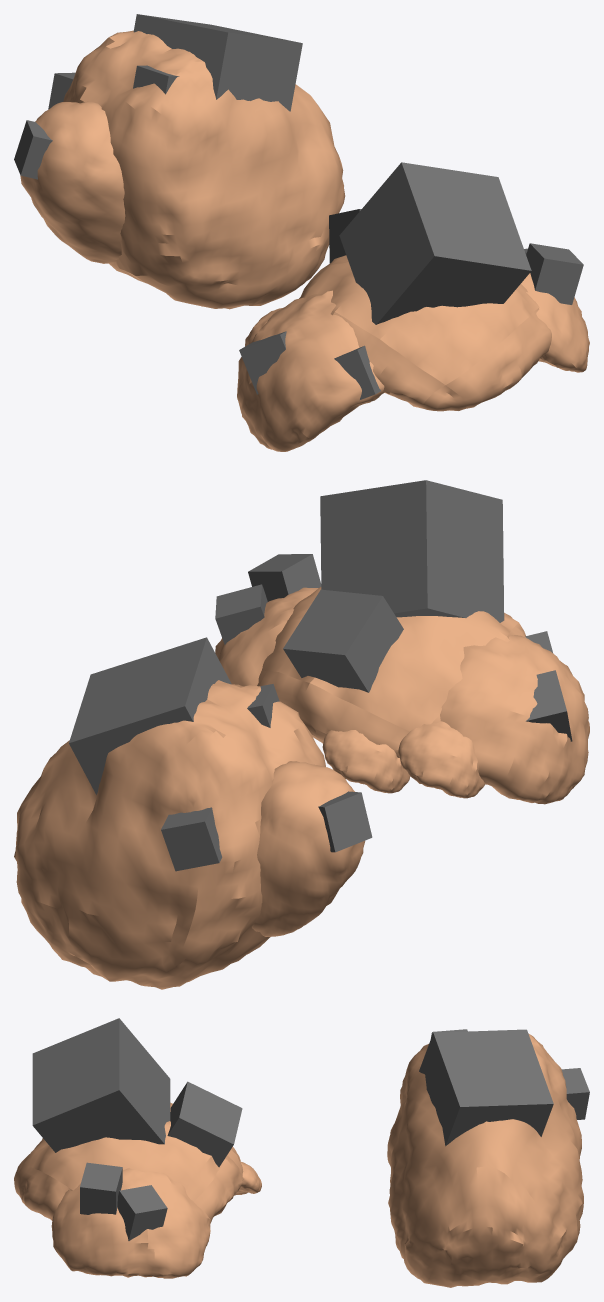
Rendered from CasillasJefe.fbx.
The picture shows the model from 3 angles, top to bottom: view 1: azimuth 30°, elevation 25°; view 2: azimuth 150°, elevation 25°; view 3: azimuth 270°, elevation 25°; orthographic projection. The views are drawn at different scales.
Visible parts, largest first — view 1: rock.008, Cubo, rock.002, rock.003, rock.007, Cubo.003, rock.001, Cubo.001, Cubo.004, Cubo.008, Cubo.009, Cubo.007 (+2 smaller); view 2: rock.008, Cubo, rock.003, rock.002, rock.007, Cubo.003, Cubo.007, rock.004, rock.001, rock.005, Cubo.005, Cubo.001 (+4 smaller); view 3: rock.008, Cubo, Cubo.003, rock.001, rock.002, Cubo.007, Cubo.001, Cubo.002, Cubo.005, rock.005.
Part boxes in pixels (left/top/right/bottom): rock.008: left=63, top=30, right=345, bottom=309; Cubo: left=339, top=162, right=531, bottom=324; rock.002: left=299, top=255, right=551, bottom=411; rock.003: left=237, top=290, right=384, bottom=451; rock.007: left=20, top=101, right=125, bottom=263; Cubo.003: left=133, top=14, right=302, bottom=111; rock.001: left=521, top=273, right=589, bottom=372; Cubo.001: left=526, top=243, right=583, bottom=304; Cubo.004: left=14, top=120, right=52, bottom=179; Cubo.008: left=239, top=331, right=286, bottom=394; Cubo.009: left=334, top=345, right=380, bottom=399; Cubo.007: left=329, top=209, right=361, bottom=263; rock.008: left=14, top=680, right=325, bottom=989; Cubo: left=320, top=480, right=504, bottom=622; rock.003: left=440, top=635, right=589, bottom=804; rock.002: left=257, top=587, right=525, bottom=757; rock.007: left=252, top=761, right=365, bottom=936; Cubo.003: left=69, top=637, right=231, bottom=794; Cubo.007: left=283, top=589, right=403, bottom=692; rock.004: left=398, top=721, right=485, bottom=798; rock.001: left=215, top=587, right=318, bottom=686; rock.005: left=322, top=730, right=409, bottom=793; Cubo.005: left=161, top=807, right=222, bottom=871; Cubo.001: left=248, top=554, right=321, bottom=601; rock.008: left=387, top=1033, right=583, bottom=1287; Cubo: left=32, top=1018, right=170, bottom=1152; Cubo.003: left=419, top=1029, right=553, bottom=1146; rock.001: left=51, top=1168, right=210, bottom=1278; rock.002: left=14, top=1102, right=243, bottom=1222; Cubo.007: left=167, top=1081, right=242, bottom=1167; Cubo.001: left=80, top=1162, right=122, bottom=1214; Cubo.002: left=117, top=1185, right=167, bottom=1240; Cubo.005: left=561, top=1068, right=589, bottom=1119; rock.005: left=234, top=1161, right=261, bottom=1195.
Bounding box in the file's own units: 9.63 × 7.61 × 16.43.
